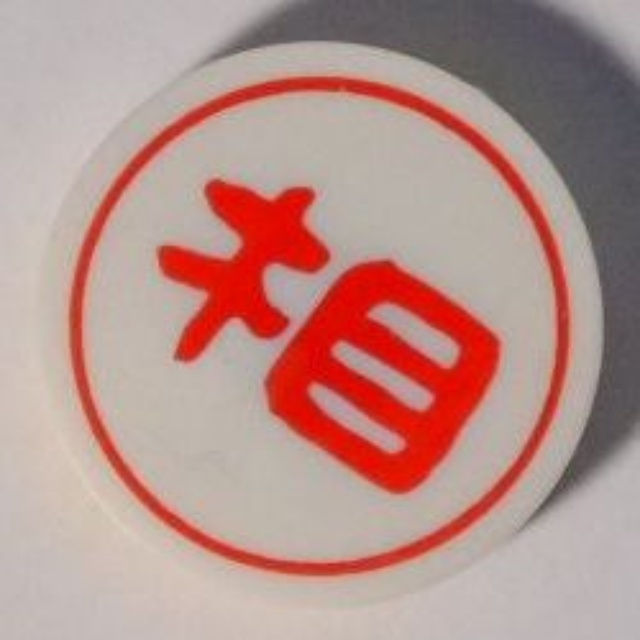red_bo: (23, 40, 615, 606)
